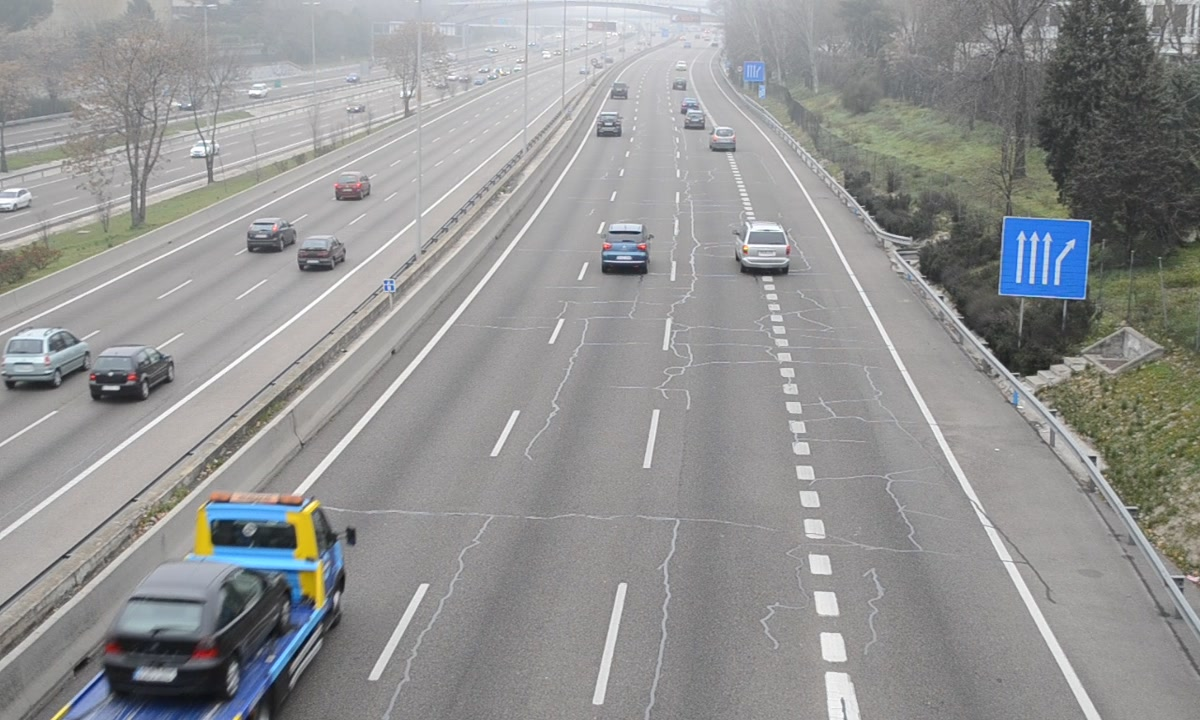car: (736, 220, 788, 273), (602, 224, 648, 271), (595, 110, 623, 139), (709, 126, 737, 153)
small-truck: (44, 491, 350, 720)
